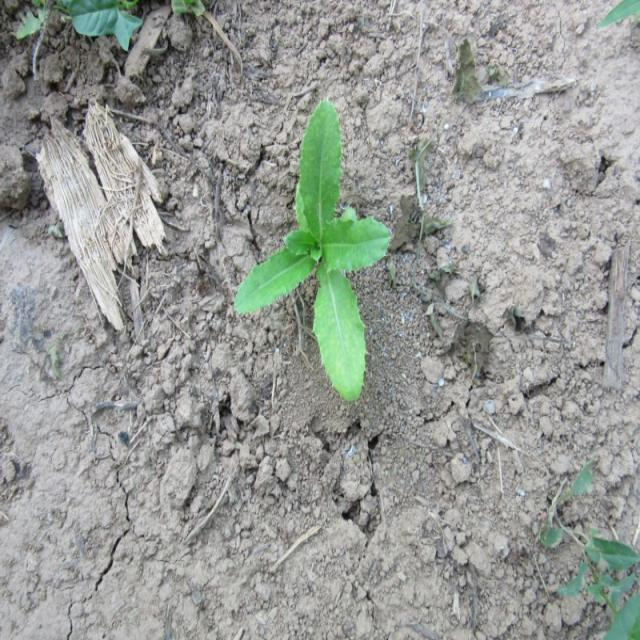cs: (231, 97, 393, 406)
